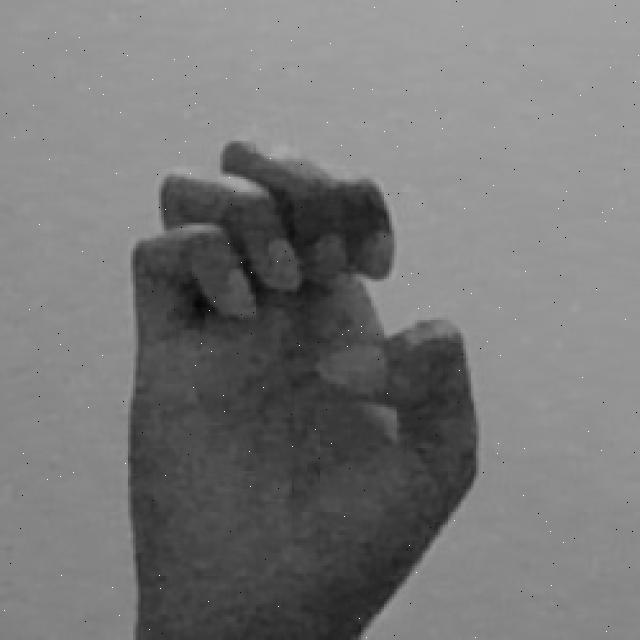E: (112, 135, 476, 640)
